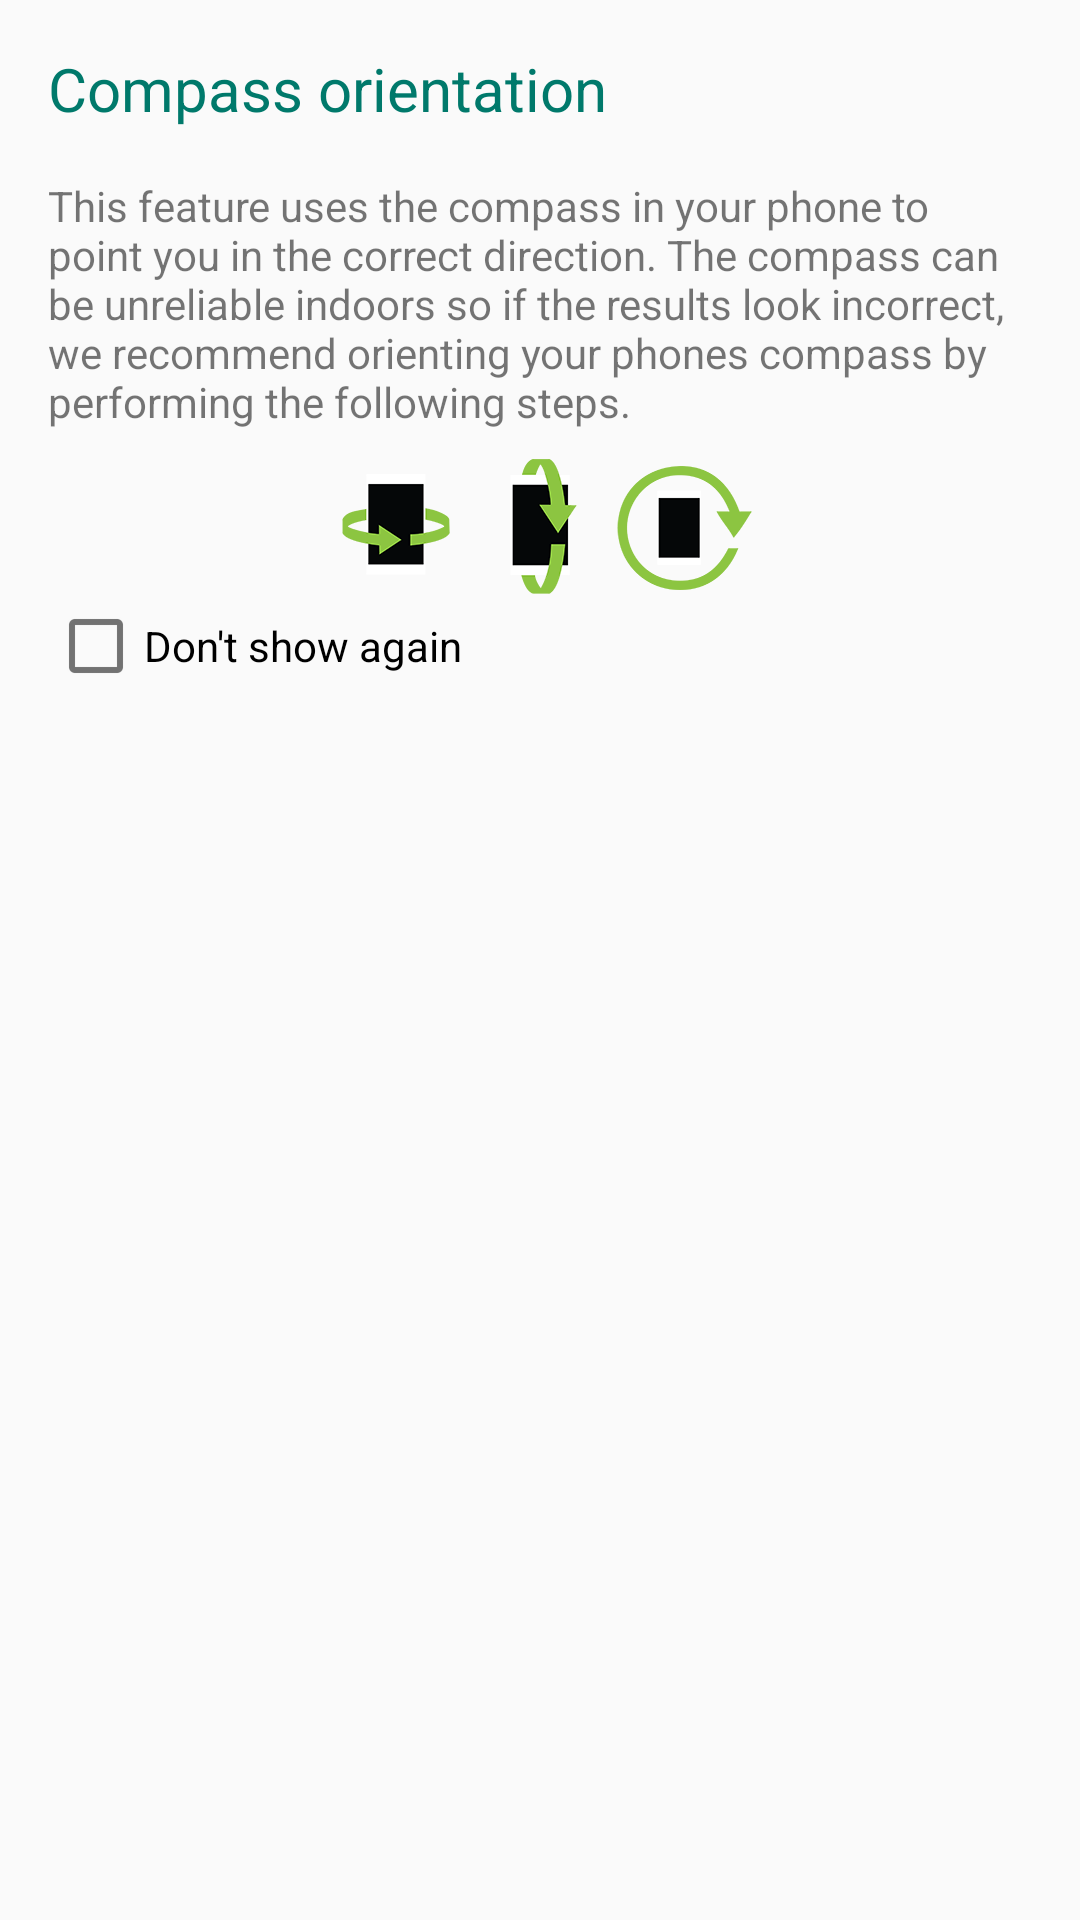

Icons on this 1080 × 1920 Android screen, each with the point to tap as (x=x, y=y):
orientation left right: (x=396, y=524)
orientation round: (x=684, y=528)
orientation up down: (x=544, y=526)
